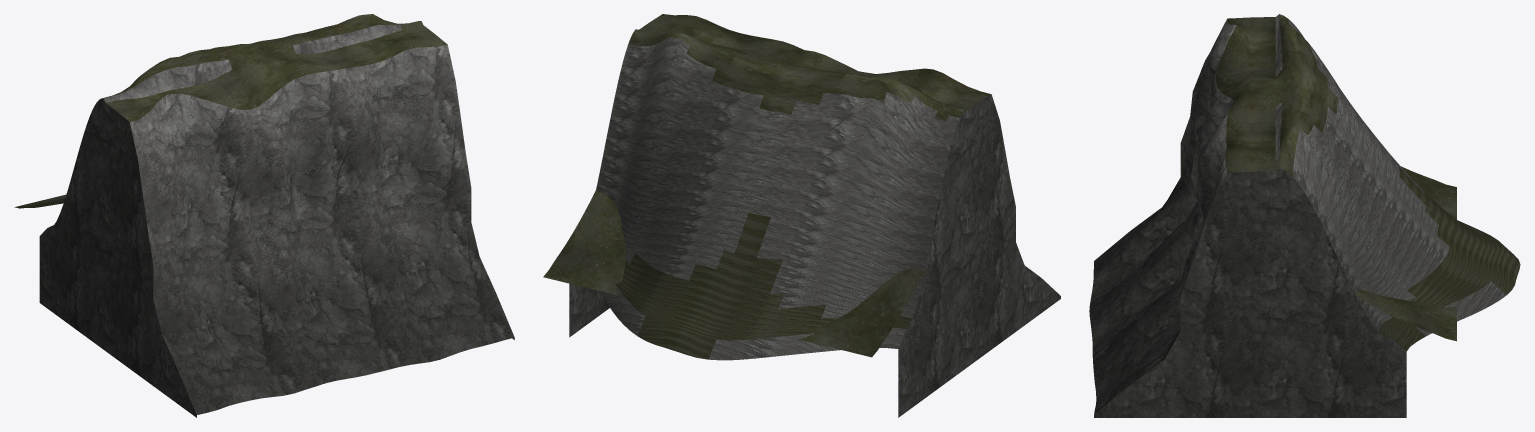
Rendered from seacliff_straight6_h3_v5_summer.glb.
3 views of the same model, side by side, from view 1: azimuth 30°, elevation 25°; view 2: azimuth 150°, elevation 25°; view 3: azimuth 270°, elevation 25° (orthographic). The views are drawn at different scales.
Visible parts, largest first — view 1: seacliff_straight6_h3; view 2: seacliff_straight6_h3; view 3: seacliff_straight6_h3.
Boxes of the visible parts, <box> form: seacliff_straight6_h3: <box>14,14,514,417</box>; seacliff_straight6_h3: <box>543,14,1060,417</box>; seacliff_straight6_h3: <box>1089,14,1520,417</box>.
Bounding box in the file's own units: 6 × 4.87 × 7.09.
2 materials, 2 textured.
